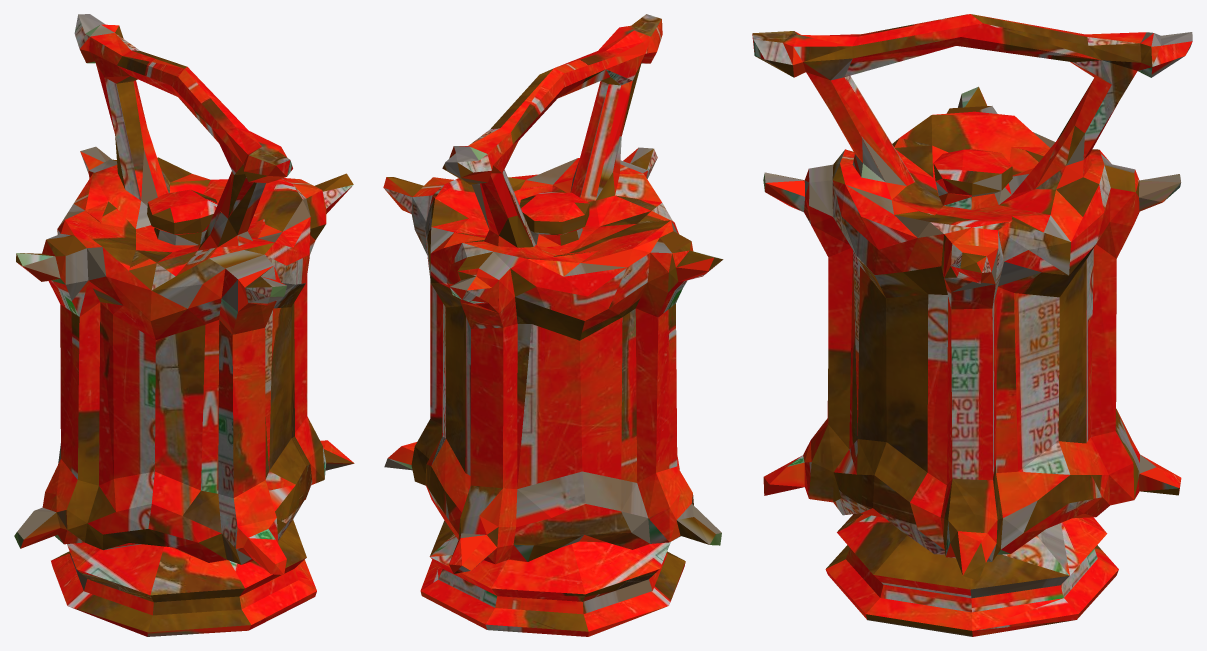
File: example.obj
3 renders of one model, left to right at view 1: azimuth 30°, elevation 25°; view 2: azimuth 150°, elevation 25°; view 3: azimuth 270°, elevation 25°, orthographic. The views are drawn at different scales.
Visible parts, largest first — view 1: LoadedObject; view 2: LoadedObject; view 3: LoadedObject.
Boxes of the visible parts, bbox=[...] form: LoadedObject: bbox=[14, 14, 354, 636]; LoadedObject: bbox=[383, 14, 723, 636]; LoadedObject: bbox=[752, 14, 1192, 636].
Size of the model in its own units: 0.2961 by 0.4418 by 0.3108.
